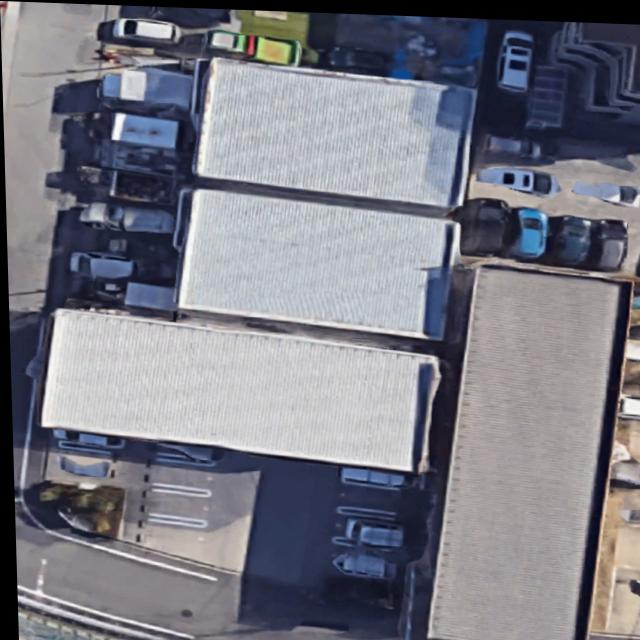Batiment: (424, 263, 627, 640), (39, 308, 436, 467), (177, 187, 452, 334), (196, 56, 473, 201)
